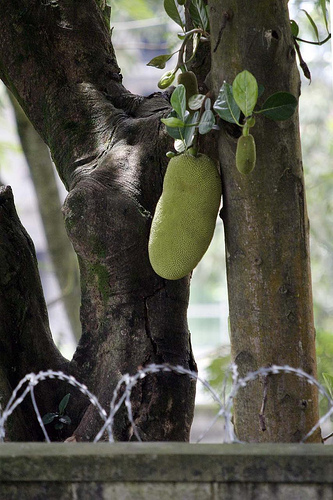jackfruit: (146, 143, 222, 280), (235, 133, 257, 177)
